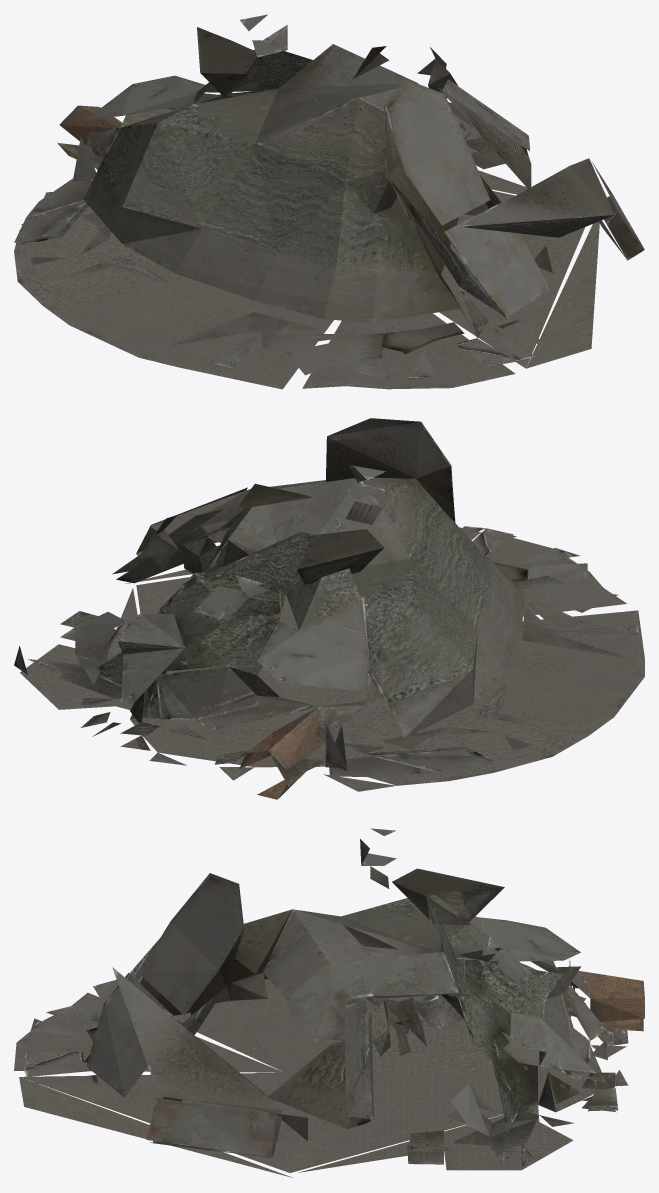
The model's file is debris_LOD2.glb.
3 views of the same model, one above another, from view 1: azimuth 30°, elevation 25°; view 2: azimuth 150°, elevation 25°; view 3: azimuth 270°, elevation 25° (orthographic). The views are drawn at different scales.
Visible parts, largest first — view 1: debris_LOD2; view 2: debris_LOD2; view 3: debris_LOD2.
Part boxes in pixels (left/top/right/bottom): debris_LOD2: left=14, top=14, right=644, bottom=389; debris_LOD2: left=14, top=418, right=644, bottom=799; debris_LOD2: left=14, top=828, right=644, bottom=1177.
Size of the model in its own units: 0.8624 by 0.3638 by 0.97.
Materials: 1 (1 with a texture image).
